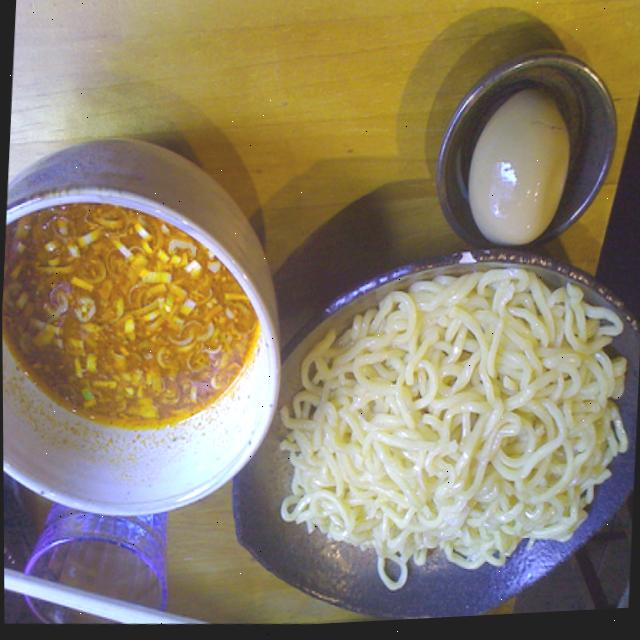面条主食: (1, 177, 639, 625)
